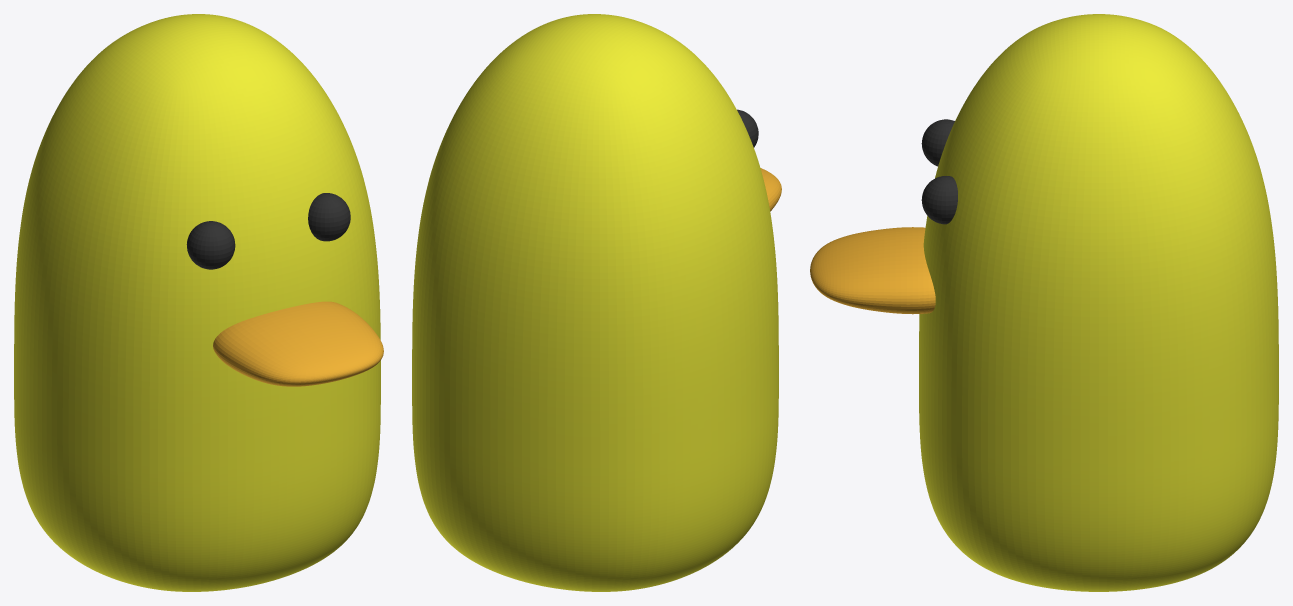
Rendered from duckmesh.glb.
3 views of the same model, side by side, from view 1: azimuth 30°, elevation 25°; view 2: azimuth 150°, elevation 25°; view 3: azimuth 270°, elevation 25° (orthographic).
Visible parts, largest first — view 1: Body, Beak, Right Eye, Left Eye; view 2: Body, Beak; view 3: Body, Beak, Left Eye, Right Eye.
Boxes of the visible parts, x1,y1,x2,y2 form: Body: [14, 14, 380, 591]; Beak: [213, 301, 383, 386]; Right Eye: [186, 221, 235, 269]; Left Eye: [308, 193, 350, 241]; Body: [412, 14, 778, 591]; Beak: [760, 168, 781, 211]; Body: [919, 14, 1278, 591]; Beak: [810, 227, 935, 314]; Left Eye: [921, 176, 957, 224]; Right Eye: [921, 119, 954, 166].
Size of the model in its own units: 1.83 by 2.97 by 2.39.
